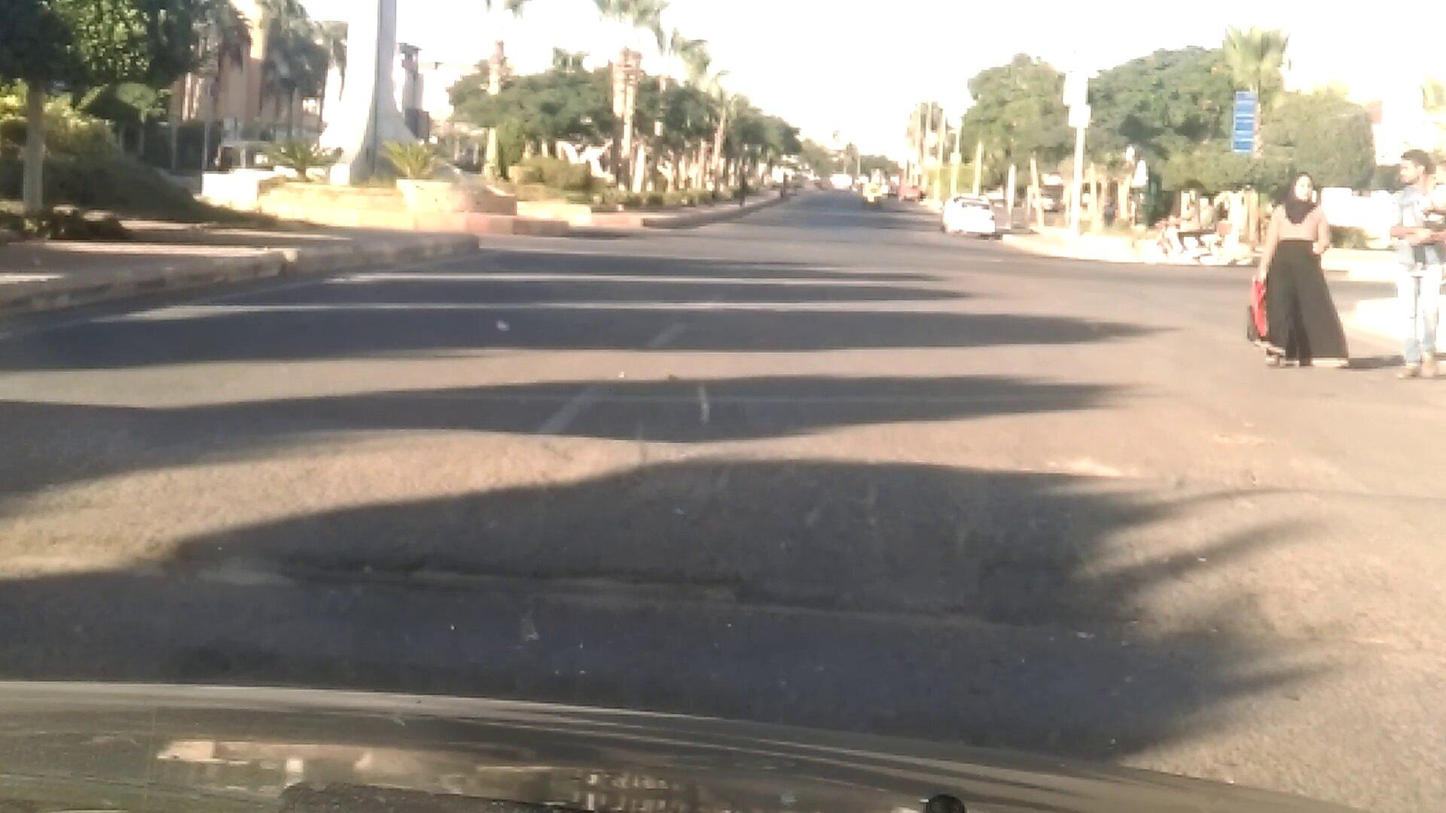Bump: (0, 420, 1445, 653)
